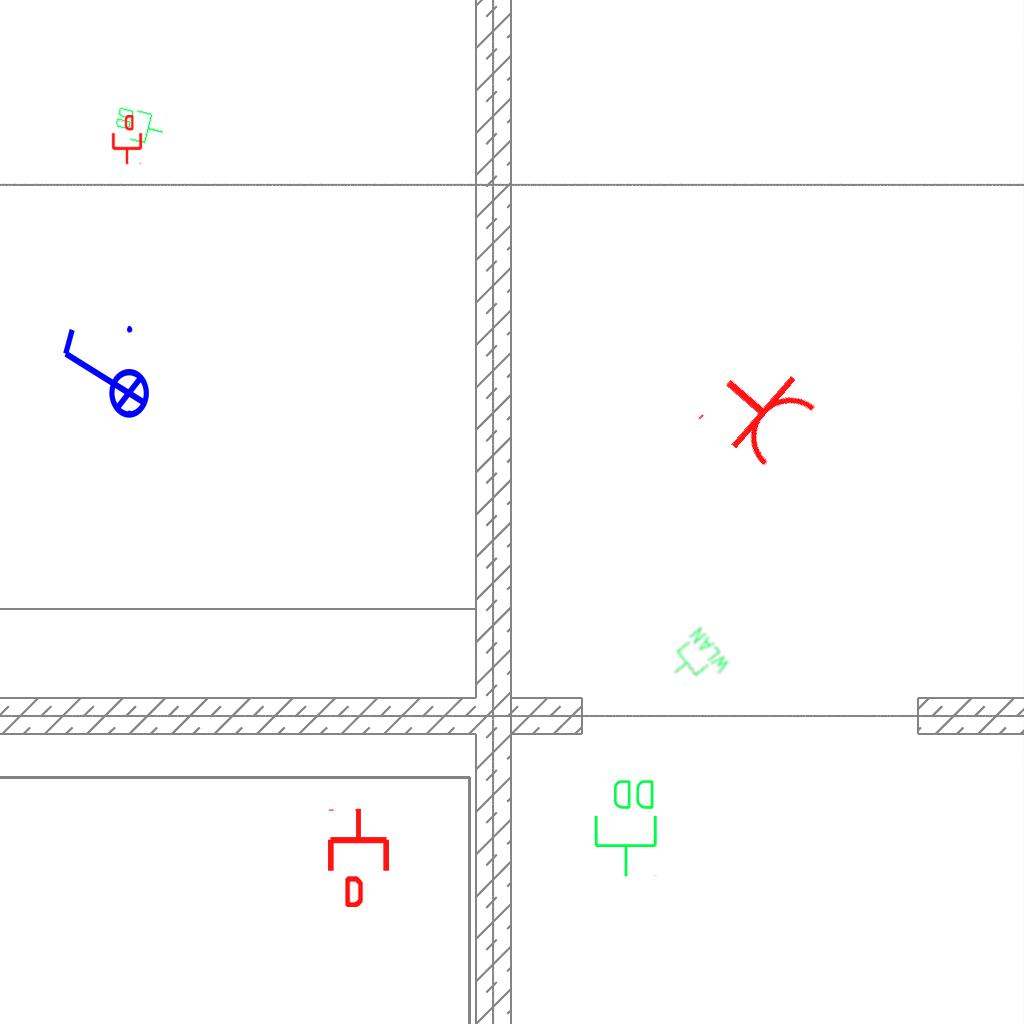Ausschalter_beleuchtet: (55, 320, 151, 432)
Datenanschluss_einfach: (324, 807, 393, 907), (110, 115, 144, 165)
Datenanschluss_zweifach: (592, 776, 661, 879), (110, 103, 169, 149)
Schukosteckdose_einfach: (692, 344, 825, 478)
WLAN: (660, 624, 734, 698)
